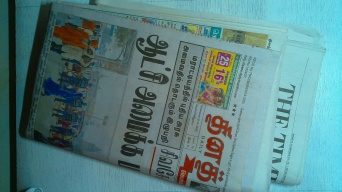p: (24, 2, 318, 192)
